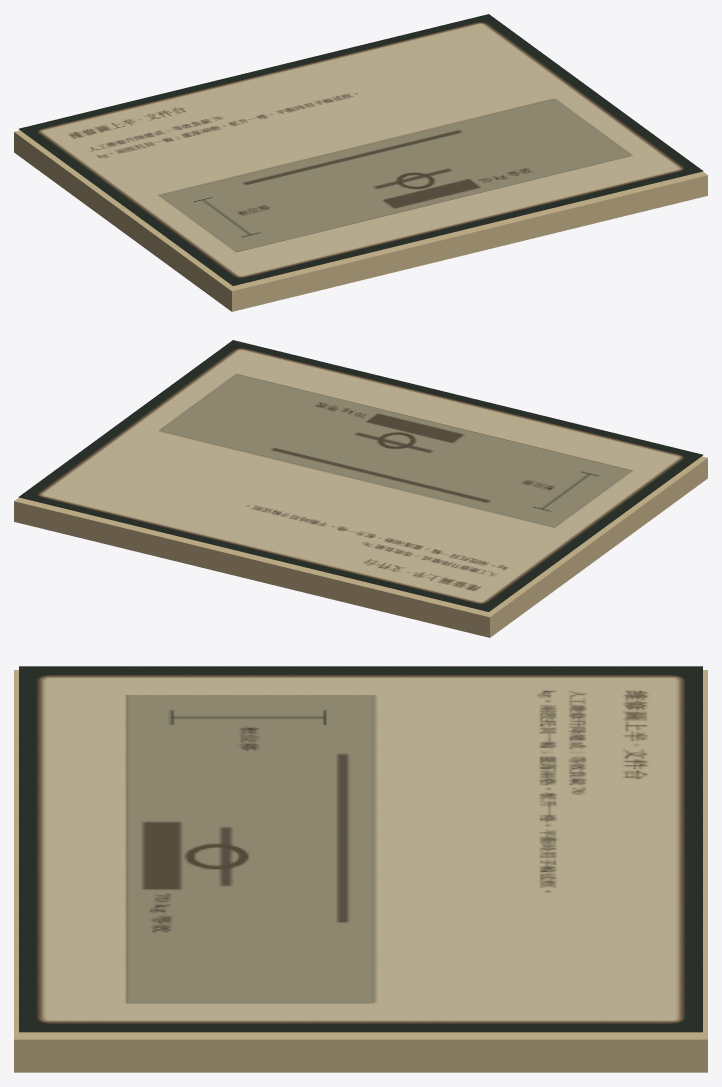
3 renders of one model, top to bottom at view 1: azimuth 30°, elevation 25°; view 2: azimuth 150°, elevation 25°; view 3: azimuth 270°, elevation 25°, orthographic. The views are drawn at different scales.
Parts seen in each view (by area): view 1: c-upper; view 2: c-upper; view 3: c-upper.
Boxes of the visible parts, x1=… form: c-upper: x1=14, y1=14, x2=707, y2=311; c-upper: x1=14, y1=340, x2=707, y2=637; c-upper: x1=14, y1=666, x2=707, y2=1072.
Size of the model in its own units: 0.29 by 0.014 by 0.23.
2 materials, 1 textured.
